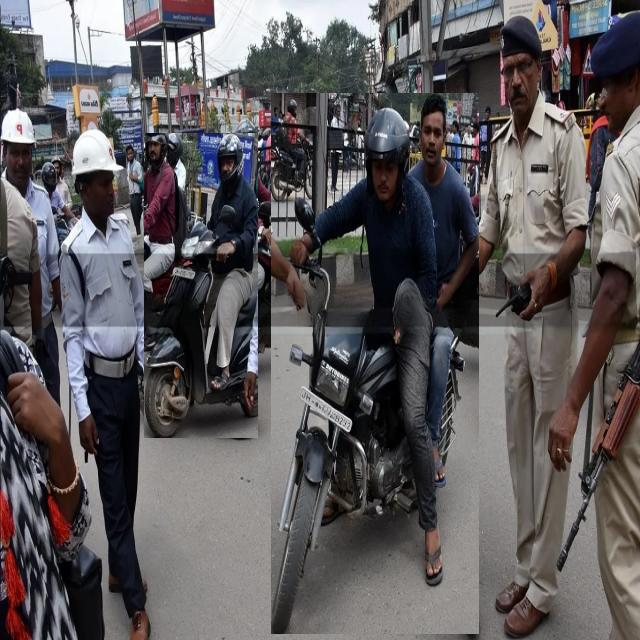motorcycle: (271, 94, 479, 634), (144, 133, 258, 438)
